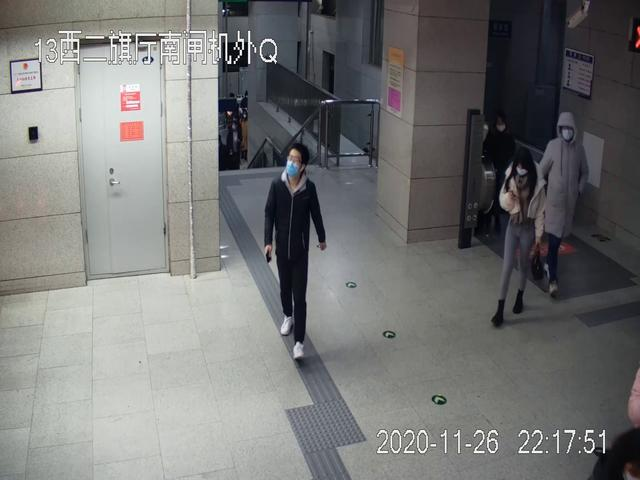person: (263, 144, 327, 361), (488, 148, 545, 327), (538, 111, 591, 295)
